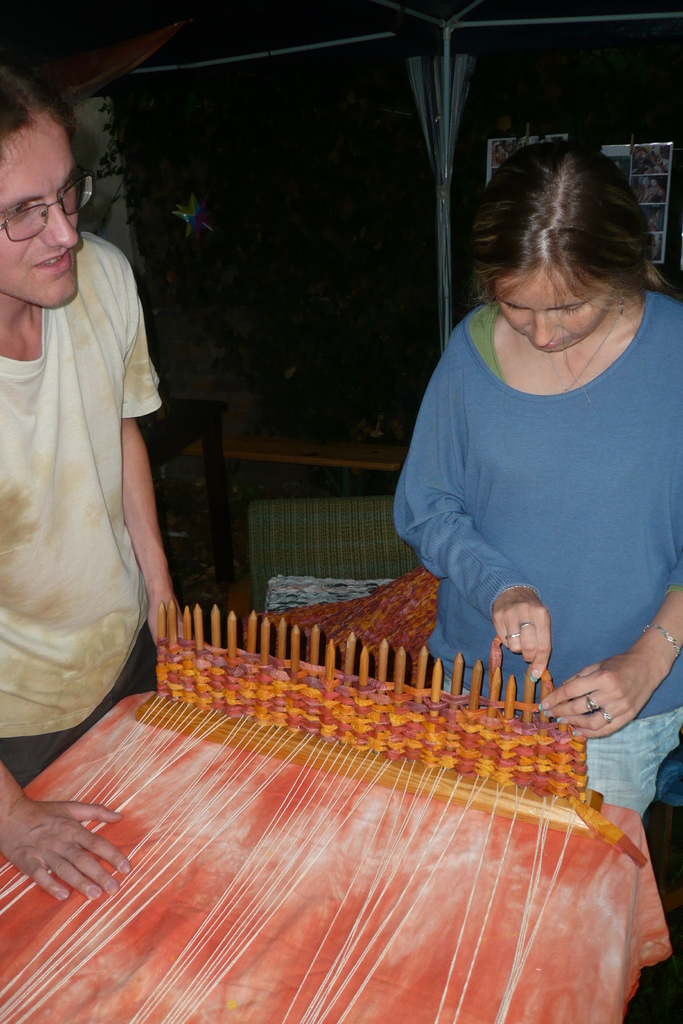Person: (393, 143, 682, 820), (0, 54, 185, 903)
